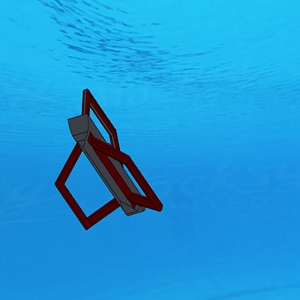submarine: (55, 90, 164, 227)
